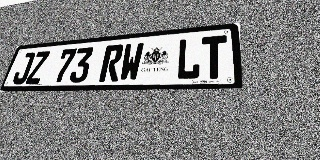3: (68, 47, 94, 83)
7: (52, 48, 77, 83)
J: (11, 52, 36, 84)
L: (175, 37, 201, 80)
R: (98, 44, 124, 82)
T: (201, 35, 227, 79)
W: (118, 42, 144, 82)
Z: (25, 51, 50, 84)
